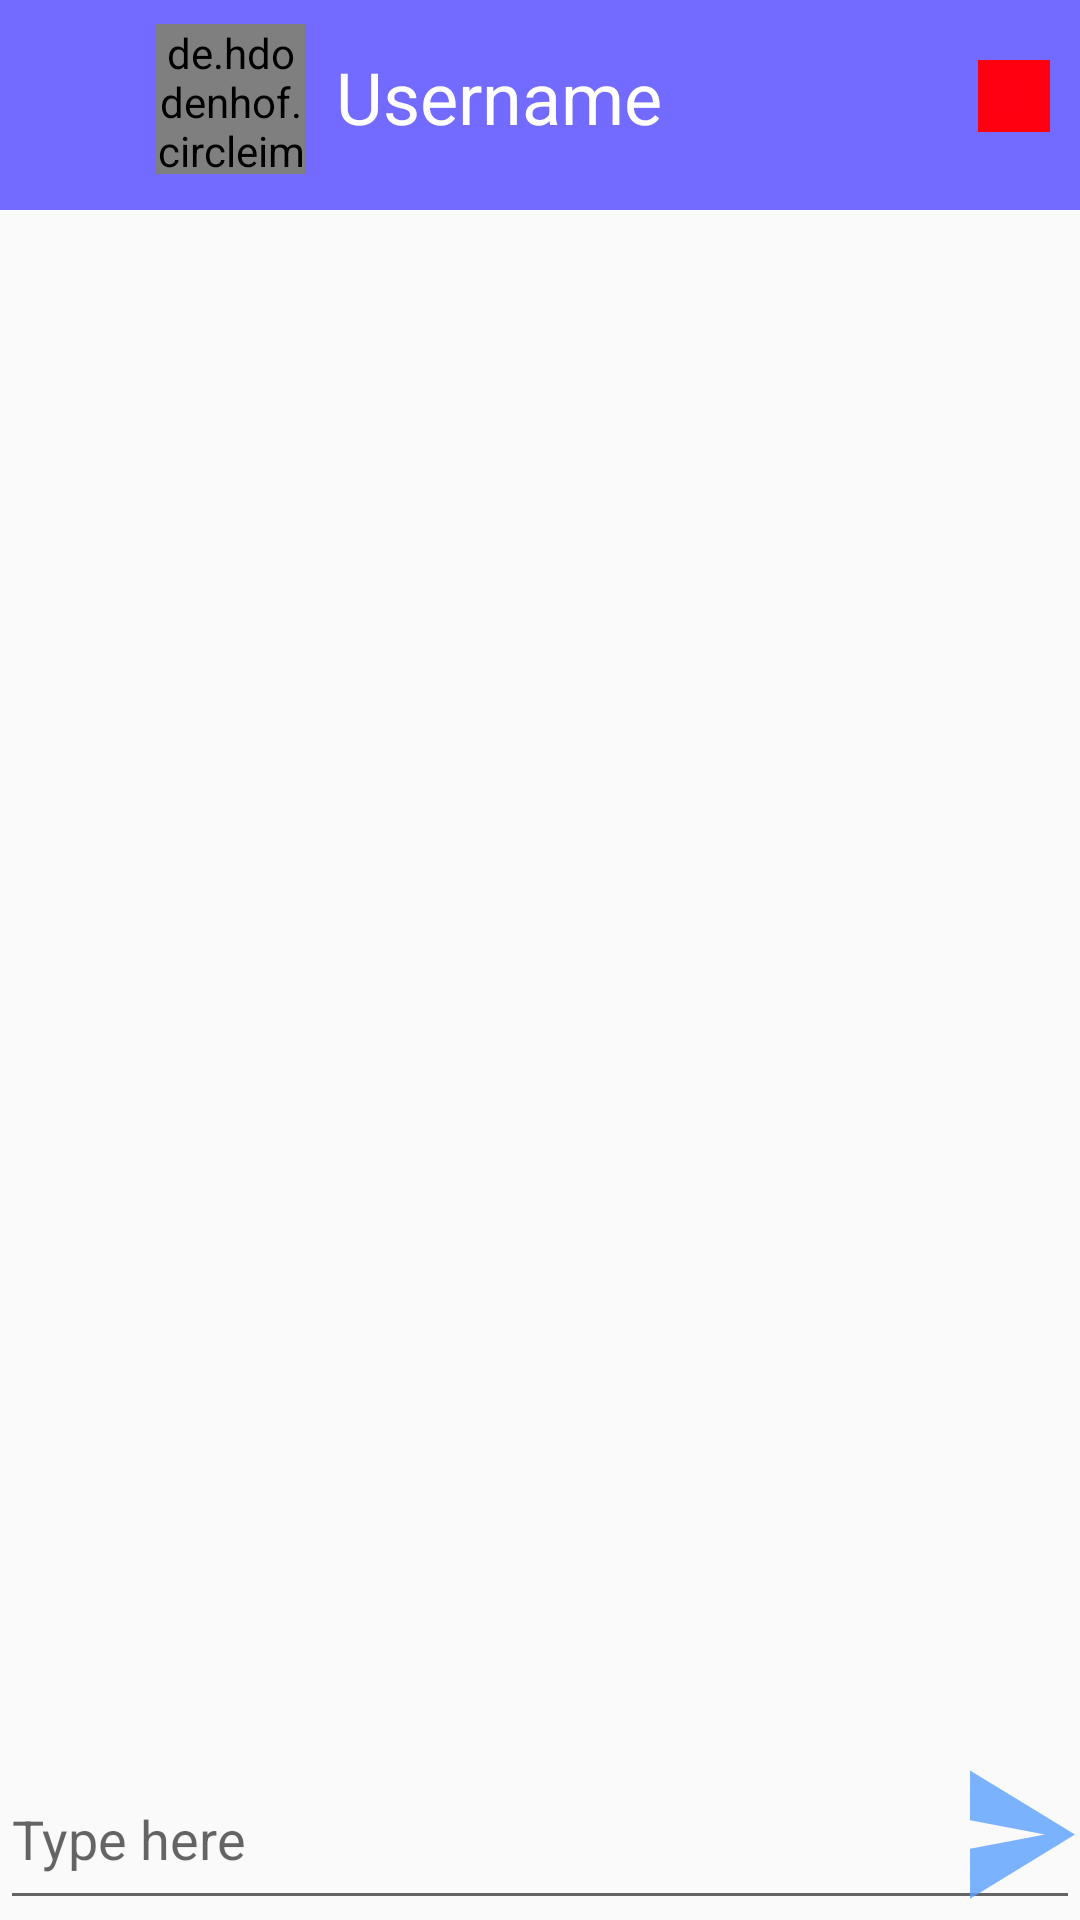

Icons on this 1080px×1920px Android screen, each with its box as (x1, y1, x2, y2):
send: (960, 1770, 1075, 1899)
